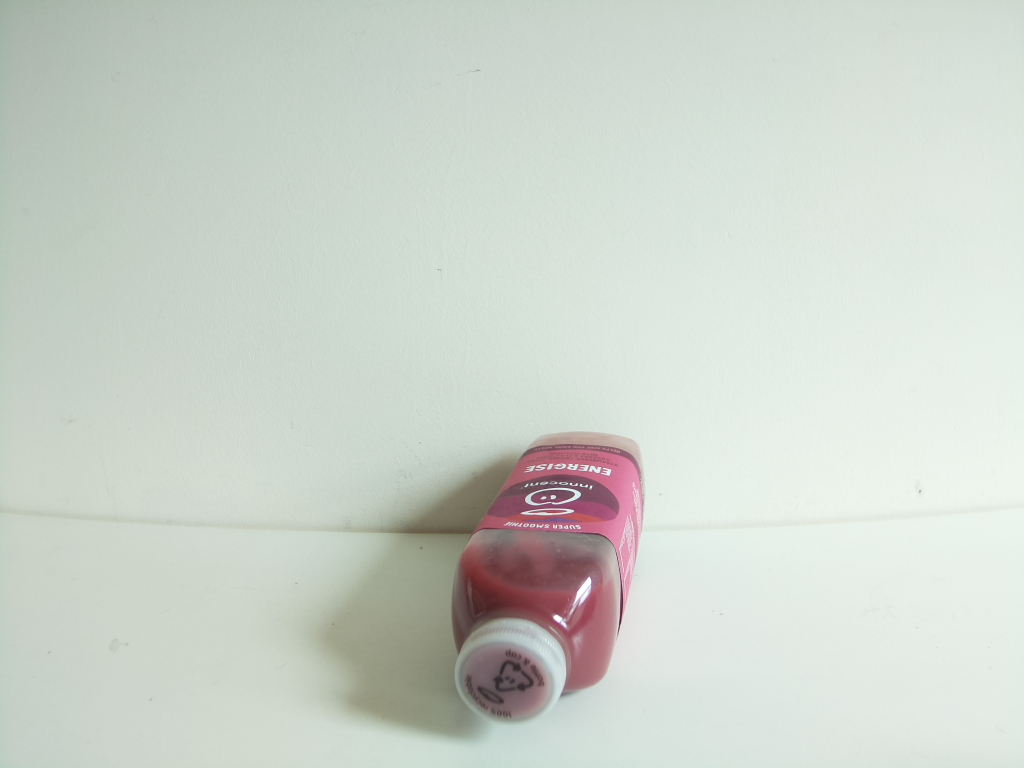juice: (447, 428, 642, 728)
